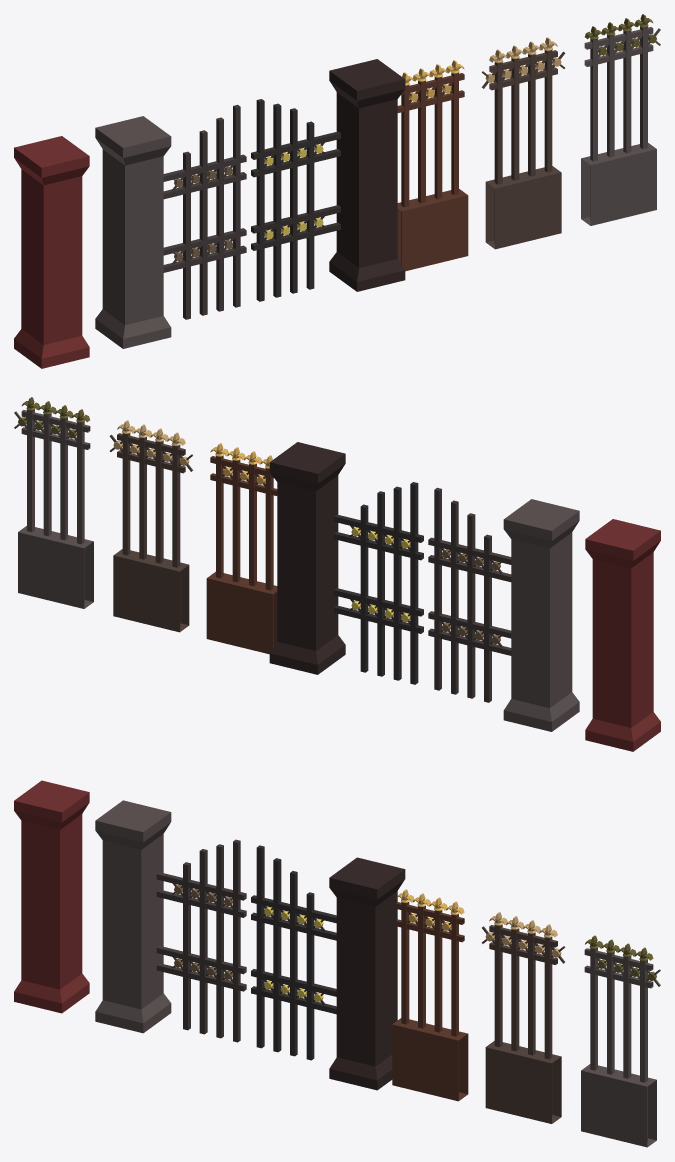
Rendered from FenceGateFixedUVS_FBX.fbx.
3 renders of one model, top to bottom at view 1: azimuth 30°, elevation 25°; view 2: azimuth 150°, elevation 25°; view 3: azimuth 330°, elevation 25°, orthographic.
Parts seen in each view (by area): view 1: Pillar_Right, Pillar, Pillar_Left, Both_sides, One_side, Neither_side, Gate_Right, Gate_Left; view 2: Pillar_Right, Pillar, Pillar_Left, Both_sides, One_side, Neither_side, Gate_Right, Gate_Left; view 3: Pillar, Pillar_Right, Pillar_Left, Both_sides, Neither_side, One_side, Gate_Right, Gate_Left.
Boxes of the visible parts, box(x1,y1,x2,y2) form: Pillar_Right: box(95, 116, 171, 348); Pillar: box(14, 136, 89, 368); Pillar_Left: box(329, 59, 405, 291); Both_sides: box(481, 37, 565, 249); One_side: box(581, 14, 660, 225); Neither_side: box(397, 60, 468, 271); Gate_Right: box(251, 99, 340, 301); Gate_Left: box(163, 104, 246, 319); Pillar_Right: box(503, 499, 579, 731); Pillar: box(585, 519, 660, 751); Pillar_Left: box(269, 442, 345, 674); Both_sides: box(109, 420, 193, 632); One_side: box(14, 397, 93, 608); Neither_side: box(206, 443, 277, 654); Gate_Right: box(334, 482, 423, 684); Gate_Left: box(428, 487, 511, 702); Pillar: box(14, 780, 89, 1013); Pillar_Right: box(95, 800, 171, 1033); Pillar_Left: box(329, 857, 405, 1090); Both_sides: box(481, 912, 565, 1123); Neither_side: box(392, 889, 468, 1101); One_side: box(581, 935, 660, 1147); Gate_Right: box(251, 845, 336, 1060); Gate_Left: box(156, 839, 246, 1042).
Bounding box in the file's own units: 38.12 × 11.6 × 2.89.
